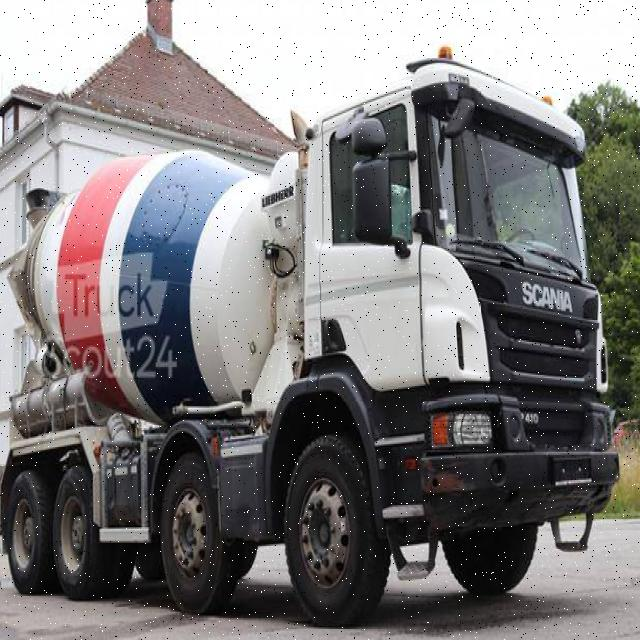Mixer Truck: (0, 63, 619, 627)
